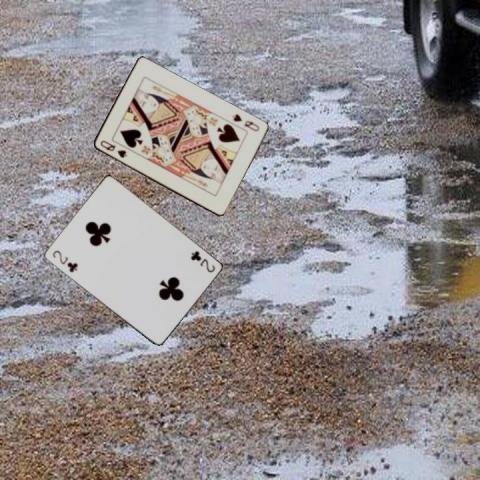2c: (50, 247, 80, 274), (187, 248, 216, 274)
Qs: (229, 110, 261, 132), (97, 138, 128, 160)
